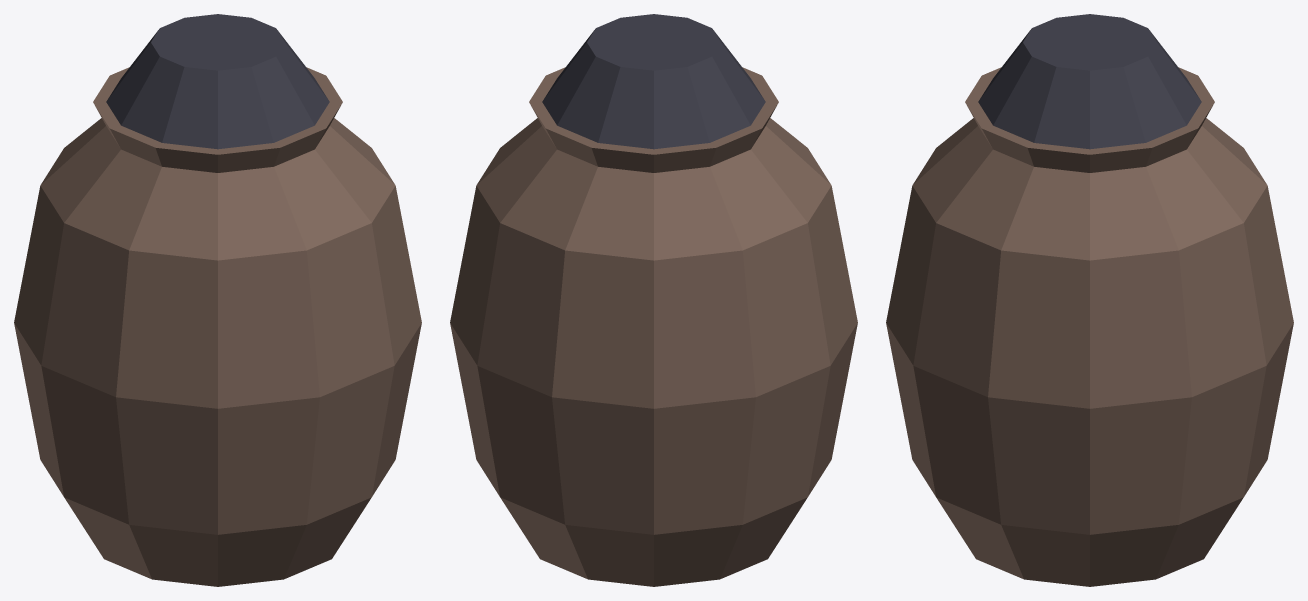
Rendered from jar.glb.
3 renders of one model, left to right at view 1: azimuth 30°, elevation 25°; view 2: azimuth 150°, elevation 25°; view 3: azimuth 270°, elevation 25°, orthographic.
Parts seen in each view (by area): view 1: jar; view 2: jar; view 3: jar.
Part boxes in pixels (x1=…): jar: x1=14, y1=14, x2=421, y2=586; jar: x1=450, y1=14, x2=857, y2=586; jar: x1=886, y1=14, x2=1293, y2=586.
Size of the model in its own units: 0.62 by 0.82 by 0.62.
